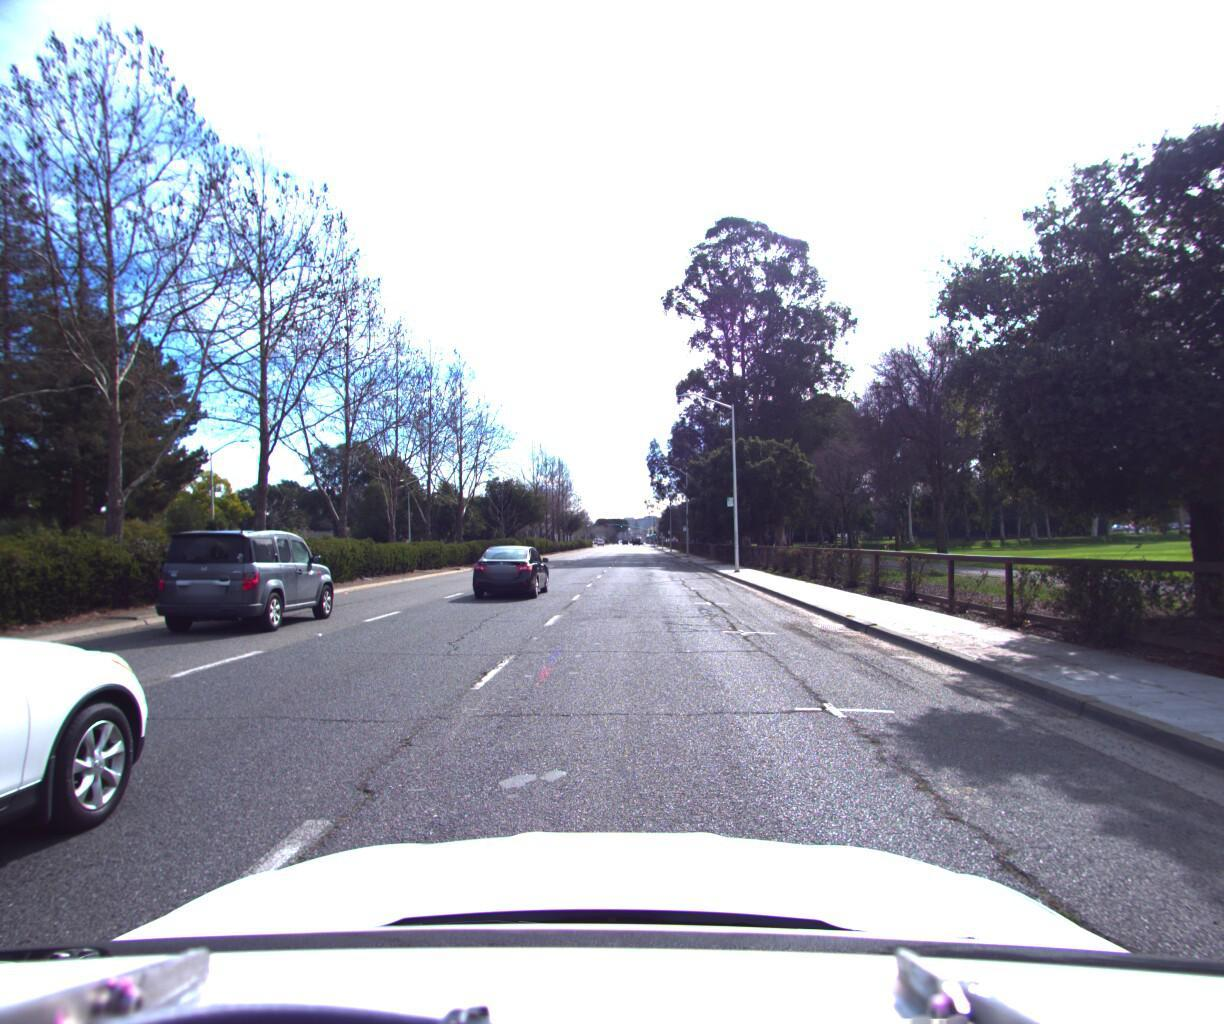car: (0, 498, 192, 1024), (160, 531, 342, 638), (463, 538, 549, 598)
